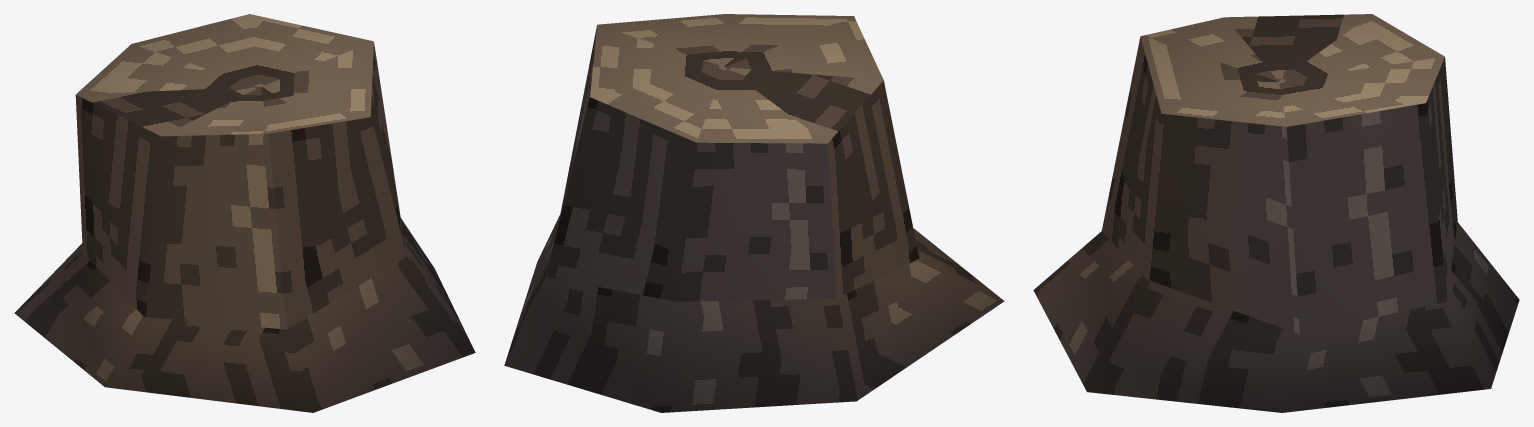
The model's file is mnat.stump.glb.
3 renders of one model, left to right at view 1: azimuth 30°, elevation 25°; view 2: azimuth 150°, elevation 25°; view 3: azimuth 270°, elevation 25°, orthographic. The views are drawn at different scales.
Parts seen in each view (by area): view 1: kit_wood; view 2: kit_wood; view 3: kit_wood.
Part boxes in pixels (x1,y1,x2,y2): kit_wood: (14,14,475,412); kit_wood: (504,14,1004,412); kit_wood: (1033,14,1519,412).
Size of the model in its own units: 1.05 by 0.651 by 1.08.
Materials: 2 (2 with a texture image).
